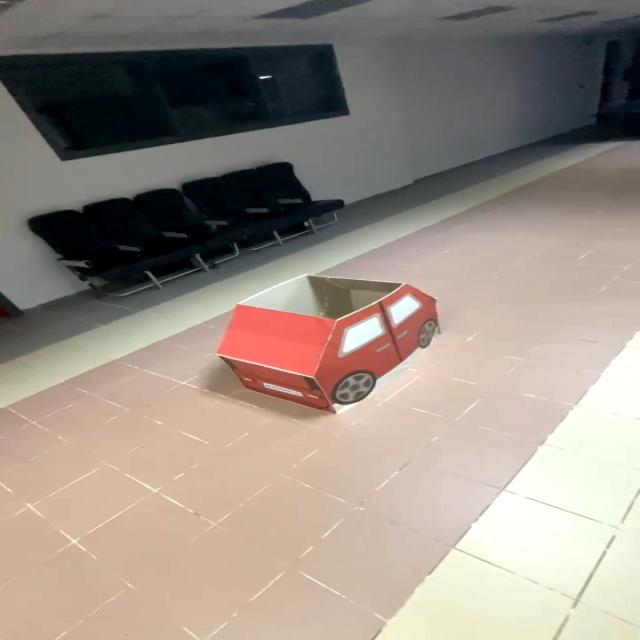red_car: (169, 265, 472, 433)
